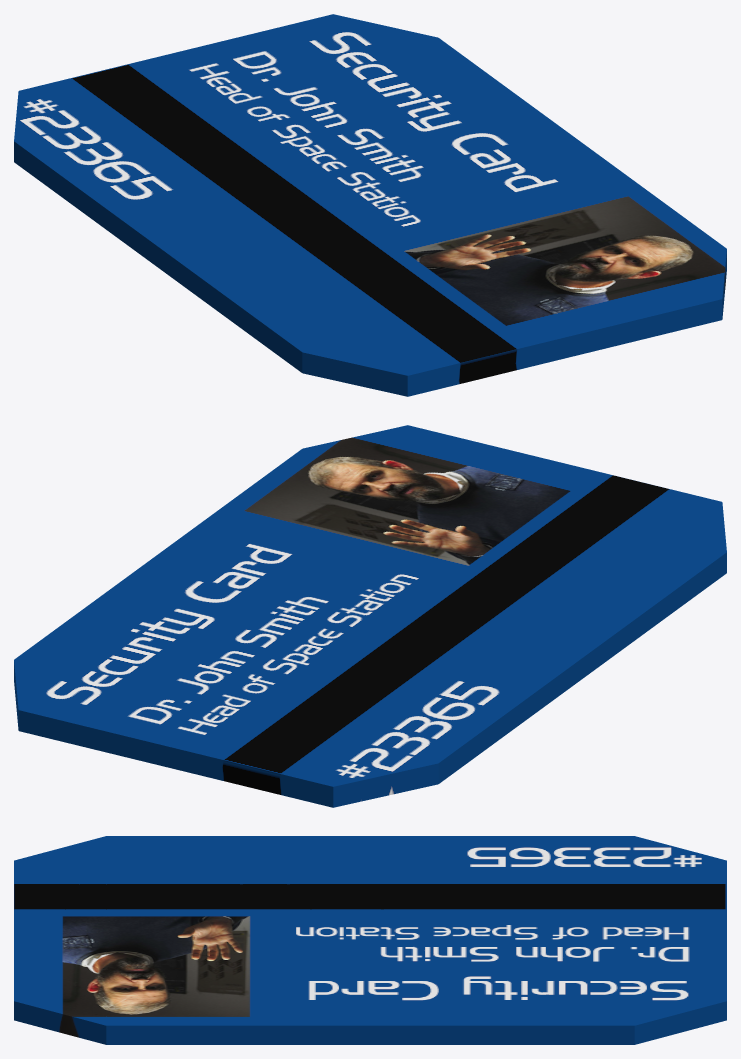
File: badge.fbx
The picture shows the model from 3 angles, top to bottom: view 1: azimuth 30°, elevation 25°; view 2: azimuth 150°, elevation 25°; view 3: azimuth 270°, elevation 25°; orthographic projection. The views are drawn at different scales.
Parts seen in each view (by area): view 1: Plane; view 2: Plane; view 3: Plane.
Boxes of the visible parts, bbox=[...] form: Plane: bbox=[14, 14, 726, 396]; Plane: bbox=[14, 425, 726, 807]; Plane: bbox=[14, 836, 726, 1044].
Size of the model in its own units: 1.62 by 0.0766 by 2.58.
